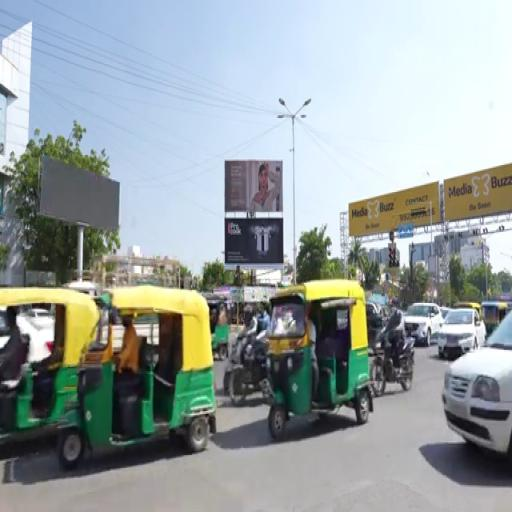Car: (442, 315, 511, 456), (437, 309, 486, 358), (17, 313, 54, 362), (405, 303, 443, 347), (366, 302, 385, 349), (20, 308, 54, 327), (440, 306, 451, 318)
